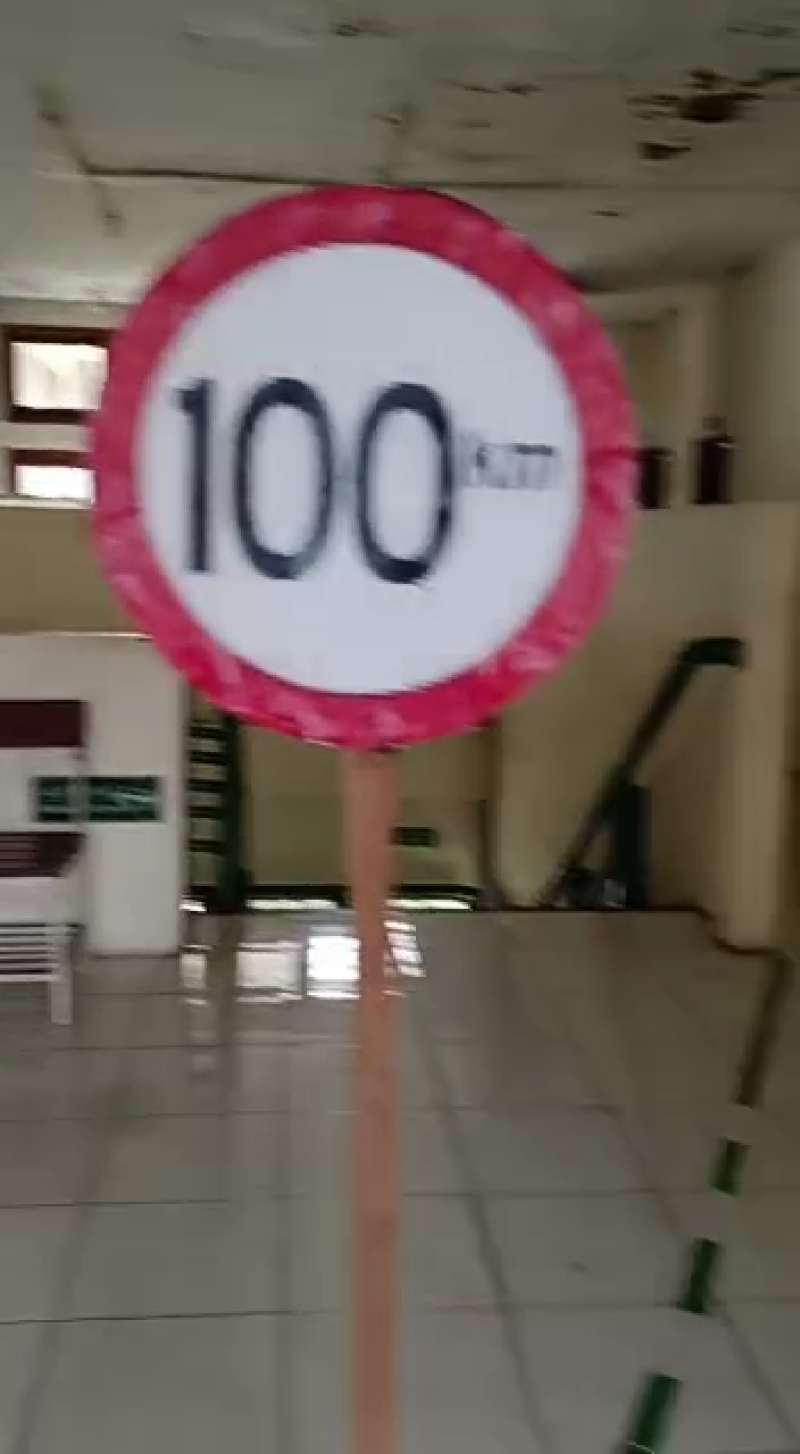batas maksimal 100kmperjam: (68, 171, 643, 770)
